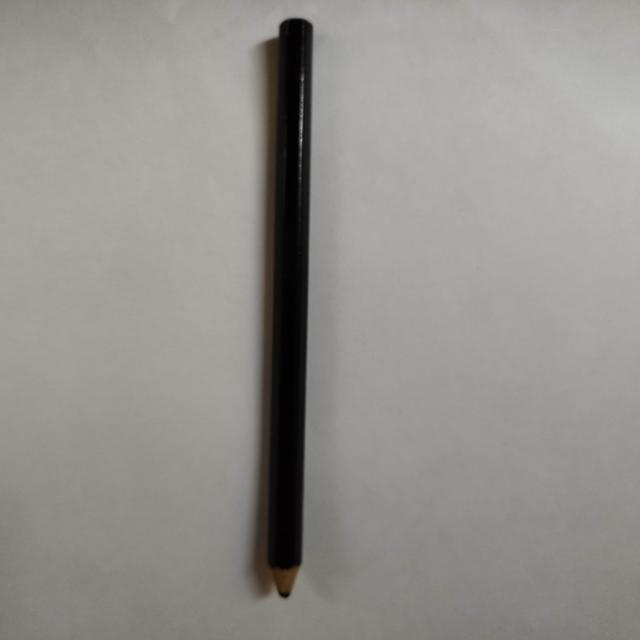pencil: (267, 18, 313, 597)
